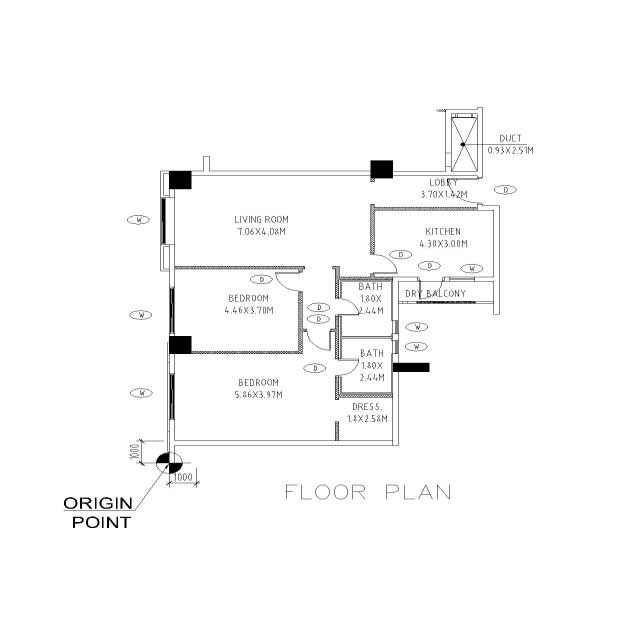Column: (387, 360, 431, 374), (166, 335, 194, 355), (369, 159, 395, 180), (167, 170, 193, 190)
Door: (475, 176, 483, 207), (417, 276, 445, 282), (297, 270, 303, 293), (370, 253, 376, 275), (334, 357, 340, 378), (334, 296, 340, 317), (304, 328, 334, 332)
Opening: (334, 398, 340, 424)
Window: (167, 284, 180, 336), (165, 372, 178, 421), (159, 197, 167, 246), (390, 319, 400, 335), (449, 276, 475, 282), (391, 340, 399, 355)
